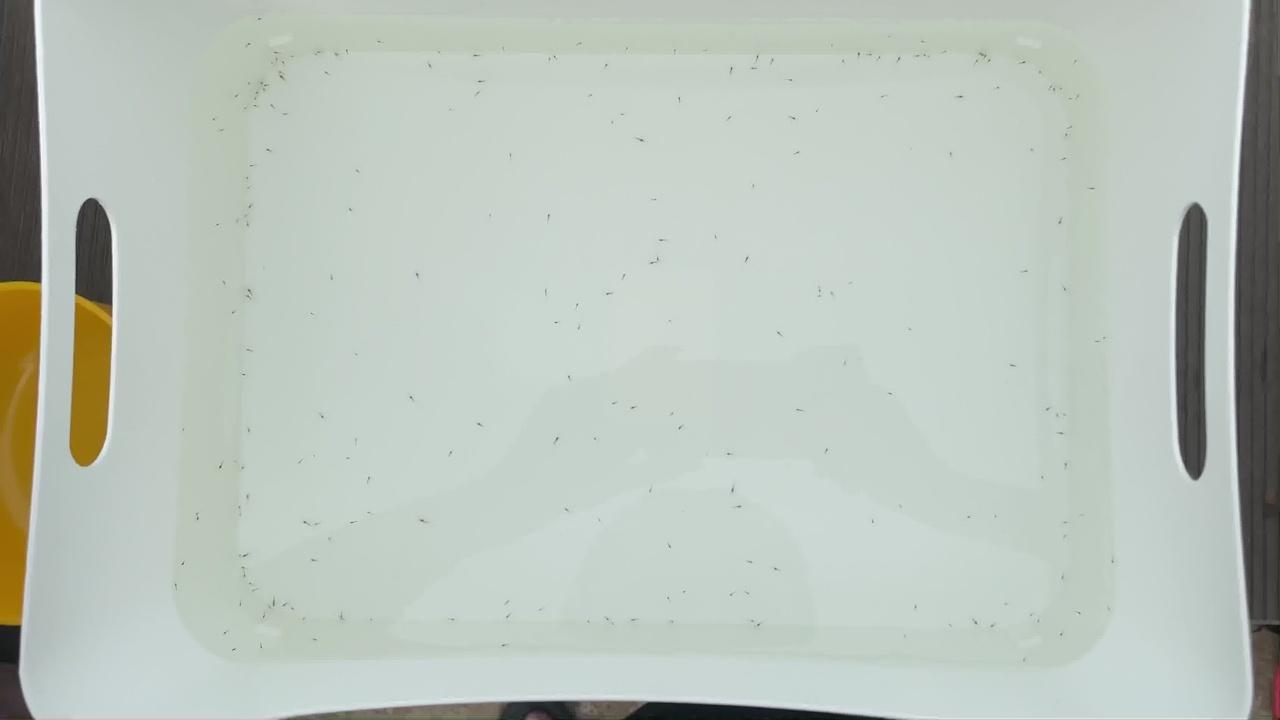shrimp: (1107, 556, 1120, 564), (1073, 611, 1086, 619), (896, 506, 909, 514), (745, 556, 758, 564), (1053, 218, 1066, 226), (1024, 146, 1037, 154), (1033, 68, 1046, 76), (1020, 58, 1033, 66), (1013, 58, 1026, 66), (792, 146, 805, 154), (605, 118, 618, 126), (473, 90, 486, 98), (476, 79, 489, 87), (312, 46, 325, 54), (278, 57, 291, 65), (275, 74, 288, 82), (262, 79, 275, 87), (241, 79, 254, 87), (253, 102, 266, 110), (232, 91, 245, 99), (247, 157, 260, 165), (232, 218, 245, 226), (412, 273, 425, 281), (310, 307, 323, 315), (243, 296, 256, 304), (241, 345, 254, 353), (812, 285, 825, 293), (750, 418, 763, 426), (722, 451, 735, 459), (609, 401, 622, 409), (552, 439, 565, 447), (576, 323, 589, 331), (549, 318, 562, 326), (571, 301, 584, 309), (617, 274, 630, 282), (351, 351, 364, 359), (316, 412, 329, 420), (294, 462, 307, 470), (350, 439, 363, 447), (310, 633, 323, 641), (243, 429, 256, 437), (245, 578, 258, 586), (229, 645, 242, 653), (900, 633, 912, 641), (1044, 495, 1056, 503), (1055, 428, 1067, 436), (1061, 130, 1073, 138), (956, 91, 968, 99), (767, 57, 779, 65), (253, 74, 265, 82), (839, 362, 851, 370), (645, 490, 657, 498), (241, 550, 253, 558), (1107, 606, 1120, 613), (1057, 631, 1070, 638), (1033, 620, 1046, 627), (1001, 601, 1014, 608), (987, 622, 1000, 629), (971, 617, 984, 624), (947, 622, 960, 629), (910, 604, 923, 611), (865, 519, 878, 526), (753, 622, 766, 629), (747, 616, 760, 623), (726, 591, 739, 598), (744, 591, 757, 598), (770, 566, 783, 573), (963, 511, 976, 518), (930, 503, 943, 510), (989, 511, 1002, 518), (1056, 572, 1069, 579), (1058, 535, 1071, 542), (1038, 470, 1051, 477), (1062, 463, 1075, 470), (1052, 409, 1065, 416), (1041, 405, 1054, 412), (1007, 362, 1020, 369), (1091, 339, 1104, 346), (1097, 335, 1110, 342), (1061, 283, 1074, 290), (1018, 268, 1031, 275), (1057, 158, 1070, 165), (1064, 126, 1077, 133), (1074, 93, 1087, 100), (1062, 92, 1075, 99), (1056, 86, 1069, 93), (1050, 87, 1063, 94), (1045, 85, 1058, 92), (975, 49, 988, 56), (992, 81, 1005, 88), (940, 50, 953, 57), (919, 50, 932, 57), (913, 52, 926, 59), (918, 40, 931, 47), (891, 56, 904, 63), (875, 52, 888, 59), (863, 52, 876, 59), (837, 56, 850, 63), (829, 42, 842, 49), (877, 89, 890, 96), (813, 106, 826, 113), (786, 79, 799, 86), (748, 62, 761, 69), (727, 62, 740, 69), (699, 46, 712, 53), (669, 49, 682, 56), (601, 60, 614, 67), (586, 89, 599, 96), (619, 112, 632, 119), (723, 114, 736, 121), (749, 181, 762, 188), (741, 256, 754, 263), (647, 261, 660, 268), (653, 253, 666, 260), (654, 233, 667, 240), (649, 196, 662, 203), (543, 211, 556, 218), (485, 209, 498, 216), (507, 151, 520, 158), (469, 53, 482, 60), (497, 47, 510, 54), (434, 49, 447, 56), (423, 62, 436, 69), (341, 49, 354, 56), (319, 71, 332, 78), (286, 53, 299, 60), (270, 57, 283, 64), (266, 61, 279, 68), (270, 46, 283, 53), (241, 41, 254, 48), (254, 15, 267, 22), (275, 68, 288, 75), (260, 85, 273, 92), (250, 90, 263, 97), (241, 104, 254, 111), (208, 116, 221, 123), (266, 101, 279, 108), (279, 113, 292, 120), (242, 170, 255, 177), (244, 184, 257, 191), (245, 199, 258, 206), (241, 212, 254, 219), (241, 219, 254, 226), (343, 204, 356, 211), (348, 165, 361, 172), (368, 164, 381, 171), (327, 277, 340, 284), (243, 286, 256, 293), (217, 277, 230, 284), (240, 374, 253, 381), (812, 297, 825, 304), (824, 292, 837, 299), (885, 394, 898, 401), (794, 408, 807, 415), (773, 333, 786, 340), (818, 445, 831, 452), (728, 485, 741, 492), (734, 503, 747, 510), (677, 423, 690, 430), (670, 412, 683, 419), (626, 405, 639, 412), (566, 377, 579, 384), (589, 434, 602, 441), (563, 508, 576, 515), (595, 519, 608, 526), (667, 543, 680, 550), (662, 594, 675, 601), (680, 589, 693, 596), (665, 618, 678, 625), (626, 616, 639, 623), (608, 620, 621, 627), (599, 616, 612, 623), (585, 622, 598, 629), (534, 608, 547, 615), (500, 616, 513, 623), (497, 638, 510, 645), (447, 615, 460, 622), (541, 289, 554, 296), (603, 293, 616, 300), (662, 320, 675, 327), (445, 452, 458, 459), (475, 423, 488, 430), (309, 456, 322, 463), (343, 455, 356, 462), (362, 479, 375, 486), (363, 505, 376, 512), (348, 518, 361, 525), (311, 519, 324, 526), (304, 531, 317, 538), (301, 521, 314, 528), (309, 556, 322, 563), (364, 615, 377, 622), (297, 613, 310, 620), (176, 424, 189, 431), (216, 460, 229, 467), (239, 465, 252, 472), (241, 493, 254, 500), (236, 513, 249, 520), (192, 517, 205, 524), (192, 509, 205, 516), (179, 558, 192, 565), (236, 564, 249, 571), (238, 571, 251, 578), (268, 598, 281, 605), (278, 602, 291, 609), (262, 613, 275, 620), (255, 643, 268, 650), (219, 628, 232, 635), (237, 601, 250, 608), (1022, 659, 1034, 666), (1028, 611, 1040, 618), (1061, 521, 1073, 528), (1078, 508, 1090, 515), (1061, 411, 1073, 418), (1089, 185, 1101, 192), (945, 150, 957, 157), (1072, 59, 1084, 66), (984, 59, 996, 66), (972, 57, 984, 64), (851, 47, 863, 54), (789, 115, 801, 122), (751, 53, 763, 60), (623, 46, 635, 53), (573, 41, 585, 48), (552, 53, 564, 60), (546, 56, 558, 63), (635, 135, 647, 142), (673, 98, 685, 105), (712, 234, 724, 241), (374, 38, 386, 45), (330, 49, 342, 56), (253, 87, 265, 94), (214, 128, 226, 135), (264, 146, 276, 153), (213, 220, 225, 227), (230, 312, 242, 319), (906, 323, 918, 330), (502, 593, 514, 600), (419, 519, 431, 526), (407, 394, 419, 401), (324, 534, 336, 541), (336, 611, 348, 618), (236, 502, 248, 509), (169, 581, 181, 588), (236, 553, 248, 560), (252, 589, 264, 596), (263, 603, 275, 610), (285, 603, 297, 610)
